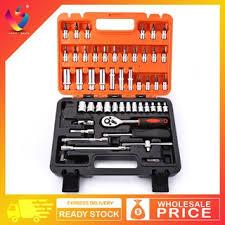wrench: (99, 113, 169, 127)
